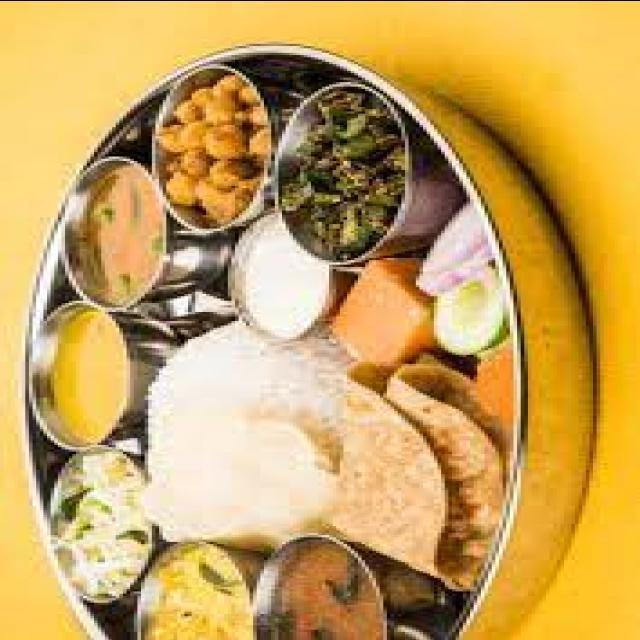dal: (39, 304, 149, 449), (135, 543, 256, 636)
rice: (137, 335, 329, 474)
sambar-rasam: (49, 155, 181, 310), (253, 529, 401, 640)
veg-fry: (268, 88, 422, 251)
